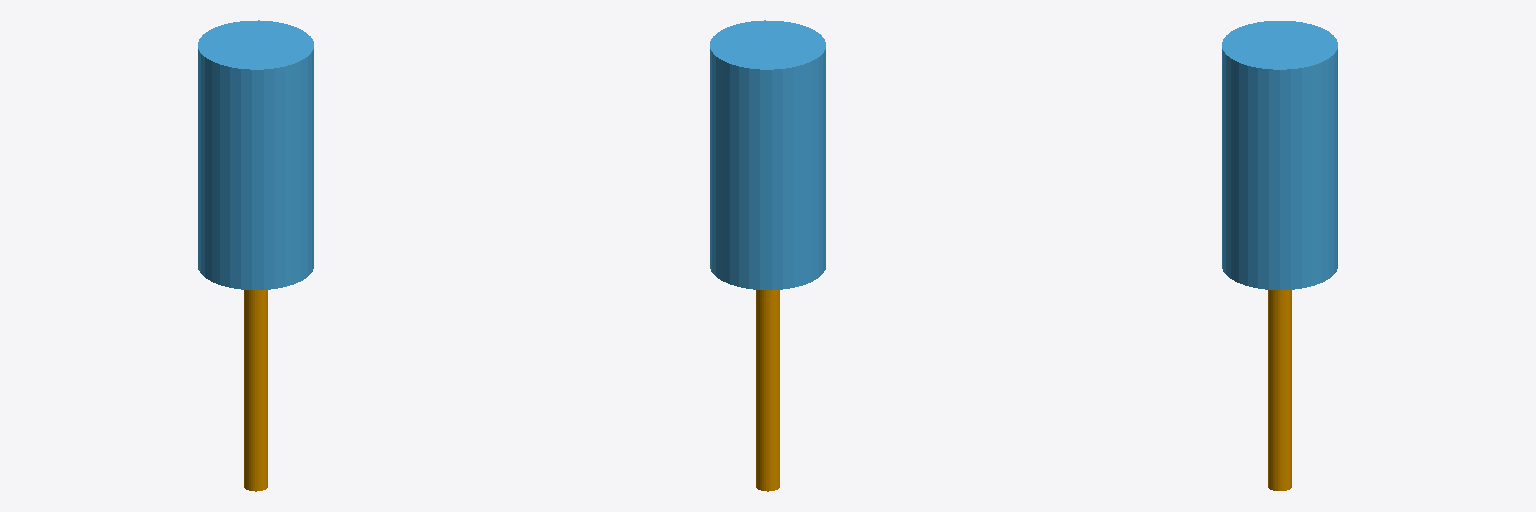
The robot description file, URDF, robot "screwdriver_on_the_table":
<?xml version="1.0" ?>
<!-- this is the one without any virtual joints and links -->
<robot name="screwdriver_on_the_table">
<link name="screwdriver_stick">
    <inertial>
      <mass value="0.05"/>
      <!-- <friction value="1.0"/> -->
      <inertia ixx="0.000041979" ixy="0.0" ixz="0.0" iyy="0.000041979" iyz="0.0" izz="0.000000625"/>
    </inertial>
    <visual>
        <origin rpy="0 0 0" xyz="0 0 0.05"/>
        <geometry>
            <cylinder radius="0.005" length="0.1"/>
        </geometry>
        <!-- <material name="White">
	 	    <color rgba="0.9 0.9 0.9 0.5"/>
        </material> -->
    </visual>
    <collision>
        <origin rpy="0 0 0" xyz="0 0 0.05"/>
        <geometry>
            <cylinder radius="0.005" length="0.1"/>
        </geometry>
    </collision>
</link>

<gazebo reference="screwdriver_body">
    <mu1>1.0</mu1>
    <mu2>1.0</mu2>
    <!-- Isaac Sim maps mu1/mu2 to PhysX static/dynamic friction during URDF→USD import -->
</gazebo>

<joint name="screwdriver_stick_body_joint" type="fixed">
    <parent link="screwdriver_stick"/>
    <child link="screwdriver_body"/>
    <origin rpy="0 0 0" xyz="0 0 0.1"/> 
    <axis xyz="0 0 1"/>
</joint>

<link name="screwdriver_body">
    <inertial>
      <mass value="0.1"/>
      <inertia ixx="0.000097689" ixy="0.0" ixz="0.0" iyy="0.000097689" iyz="0.0" izz="0.000028711"/>
    </inertial>
    <visual>
        <origin rpy="0 0 0" xyz="0 0 0.05"/>
        <geometry>
            <cylinder radius="0.023963" length="0.1"/>
        </geometry>
        <!-- <material name="Red1">
	 	    <color rgba="0.9 0. 0. 0.5"/>
        </material> -->
    </visual>
    <collision>
        <origin rpy="0 0 0" xyz="0 0 0.05"/>
        <geometry>
            <cylinder radius="0.023963" length="0.1"/>
        </geometry>
    </collision>
</link>

<!-- <joint name="screwdriver_body_cap_joint" type="revolute">
    <parent link="screwdriver_body"/>
    <child link="screwdriver_cap"/>
    <origin rpy="0 0 0" xyz="0 0 0.1"/> 
    <axis xyz="0 0 1"/>
</joint>

<link name="screwdriver_cap">
    <inertial>
      <mass value="0.005"/>
      <inertia ixx="0.00001" ixy="0.0" ixz="0.0" iyy="0.000005" iyz="0.0" izz="0.000005"/>
    </inertial>
    <visual>
        <origin rpy="0 0 0" xyz="0 0 0.0006"/>
        <geometry>
            <cylinder radius="0.02" length="0.001"/>
        </geometry>
        <material name="Yellow">
	 	    <color rgba="0.9 0.9 0. 1.0"/>
        </material>
    </visual>
    <collision>
        <origin rpy="0 0 0" xyz="0 0 0.0005"/>
        <geometry>
            <cylinder radius="0.02" length="0.001"/>
        </geometry>
    </collision>
</link> -->

</robot>

--- What the picture shows (computed from the rendered views, not written in the file) ---
Views: 3 orthographic renders of the robot side by side, from view 1: azimuth 30°, elevation 25°; view 2: azimuth 150°, elevation 25°; view 3: azimuth 270°, elevation 25°.
Model screwdriver_on_the_table with 2 links and 1 joints (1 fixed), rooted at screwdriver_stick, posed every joint at zero.
Links seen in each view (by area): view 1: screwdriver_body, screwdriver_stick; view 2: screwdriver_body, screwdriver_stick; view 3: screwdriver_body, screwdriver_stick.
Link boxes in pixels (x1,y1,x2,y2): screwdriver_body: [198, 20, 313, 289]; screwdriver_stick: [244, 290, 267, 491]; screwdriver_body: [710, 20, 825, 289]; screwdriver_stick: [756, 290, 779, 491]; screwdriver_body: [1222, 21, 1337, 289]; screwdriver_stick: [1268, 290, 1291, 490].
Size in the robot's own frame: 0.0479 by 0.0479 by 0.2 metres.
Geometry: primitives only (box / cylinder / sphere), no mesh files.
